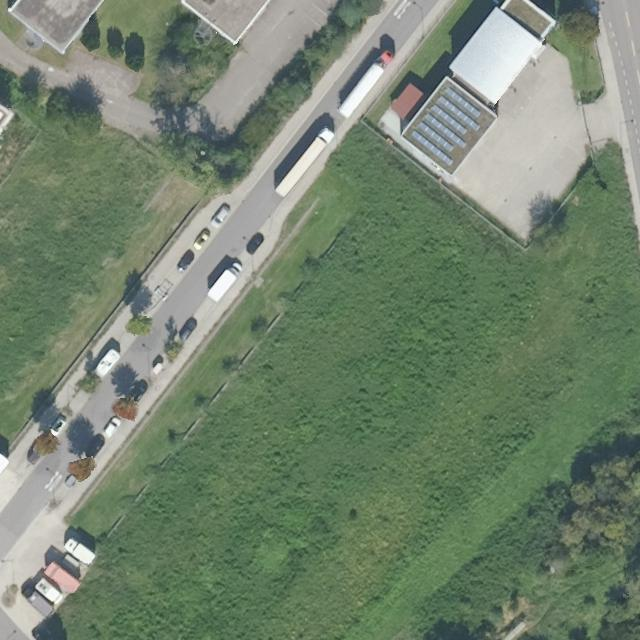PV: (407, 83, 491, 168)
